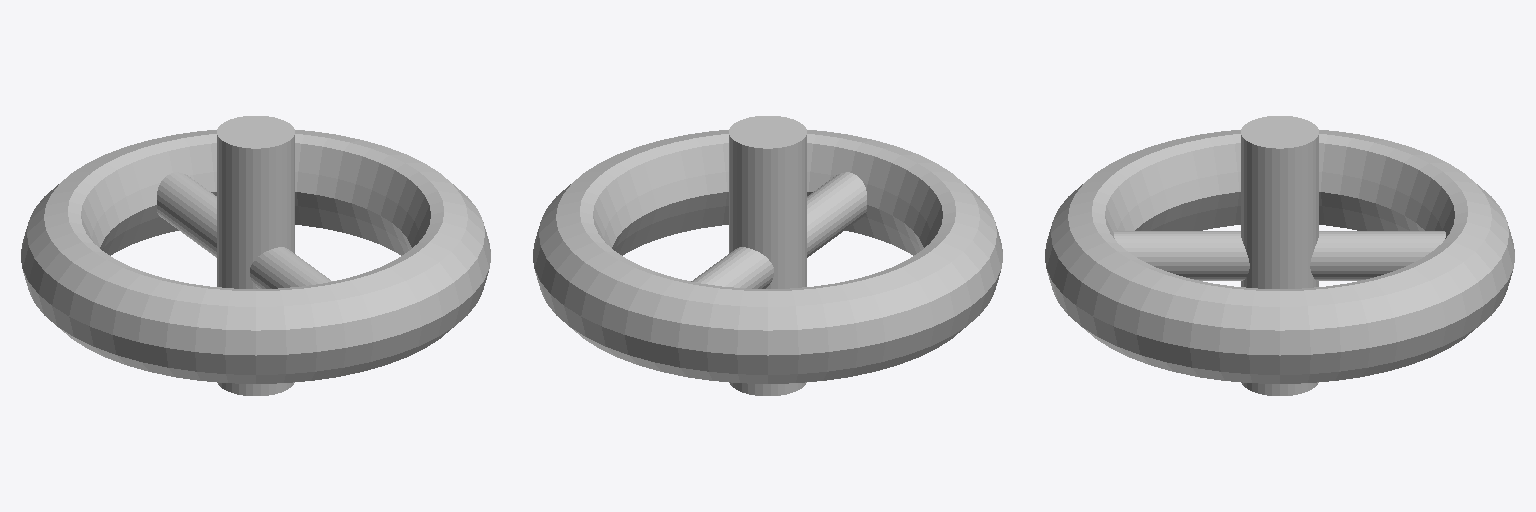
File: station.obj
3 renders of one model, left to right at view 1: azimuth 30°, elevation 25°; view 2: azimuth 150°, elevation 25°; view 3: azimuth 270°, elevation 25°, orthographic.
Visible parts, largest first — view 1: Torus; view 2: Torus; view 3: Torus.
Boxes of the visible parts, <box> form: Torus: <box>21,116,490,395</box>; Torus: <box>533,116,1002,395</box>; Torus: <box>1045,116,1514,395</box>.
Bounding box in the file's own units: 4.59 × 2.67 × 4.59.